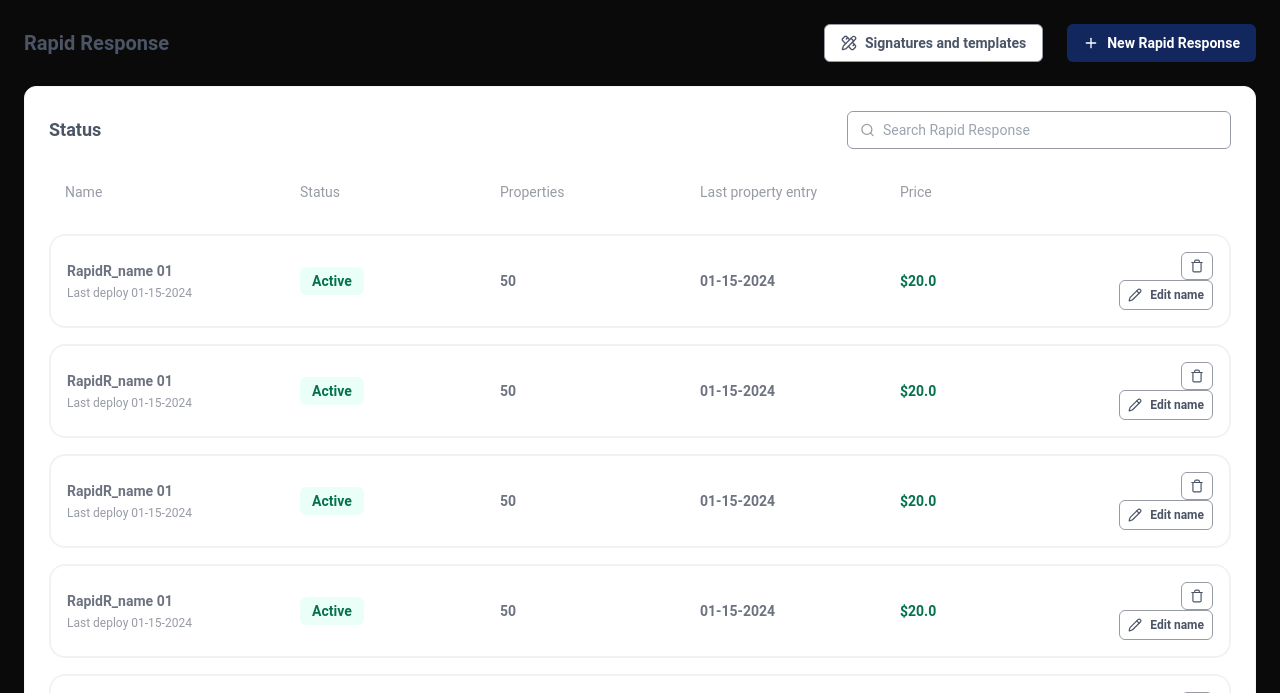
Test: ProductTable › opens the modal when clicking 'New Rapid Response'
What coordinates should you click on to do the following:
click the button "New Rapid Response"
I would click on:
 (1162, 43)
Its box is x1=1067 y1=24 x2=1256 y2=62.
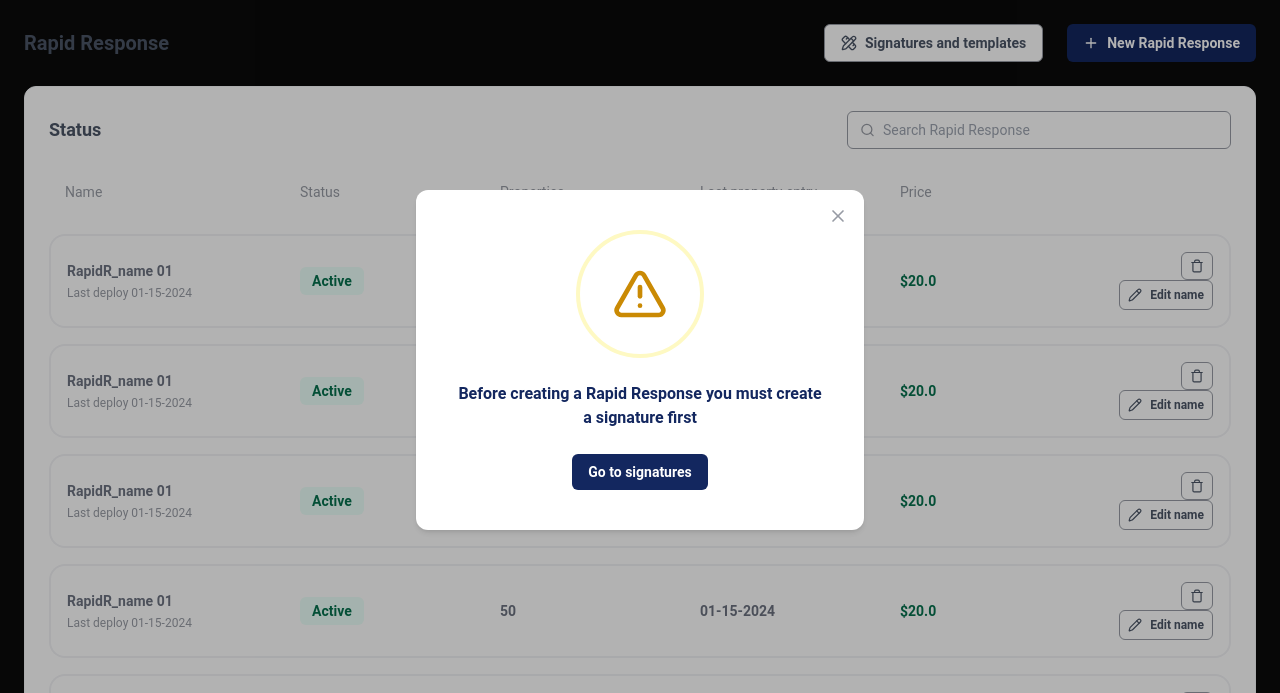
Check: the text "Before creating a Rapid Response you must create a signature first" is shown, box x1=456 y1=382 x2=824 y2=430
